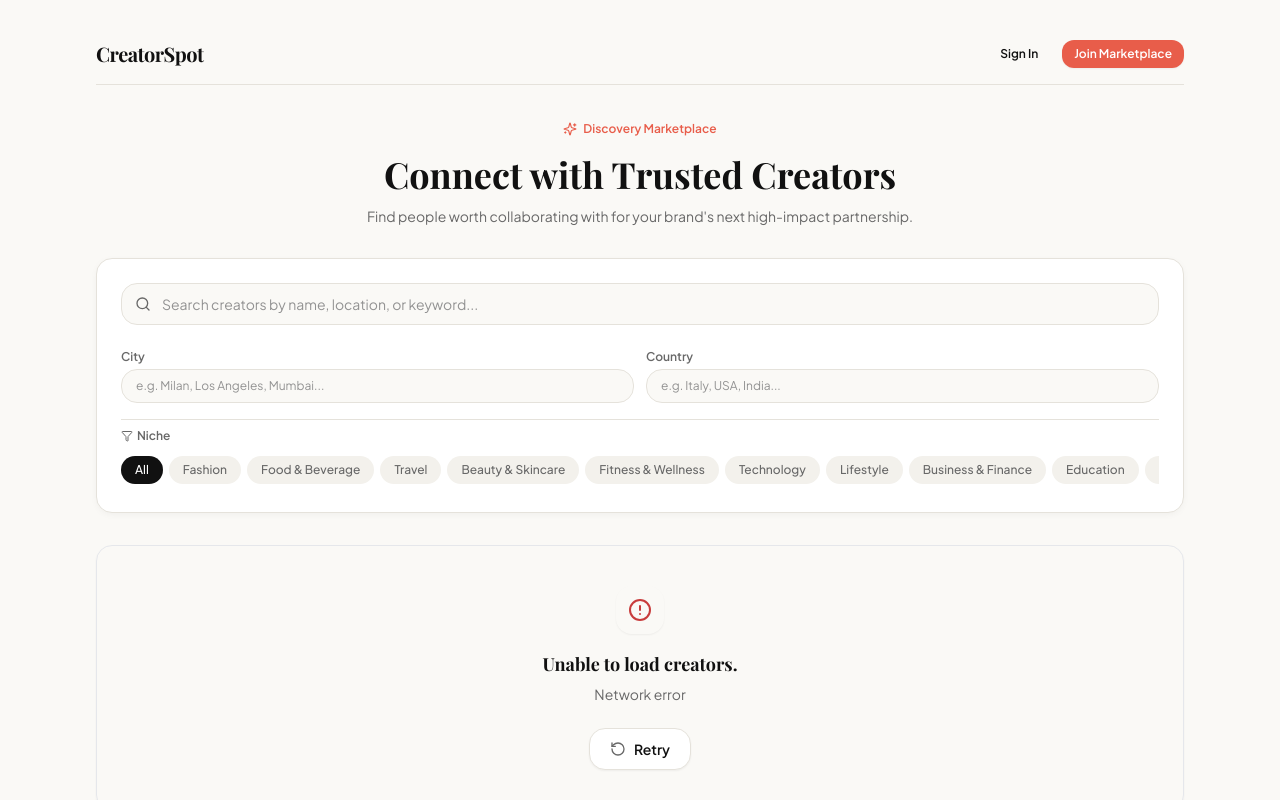
Test: Phase 6B Frontend Creator Discovery Page › renders error state and retries on Retry click
Expected: the text "Network error" is shown, [594,684,686,704]
Click the button "Retry" at (640, 749), box [589,728,691,770]
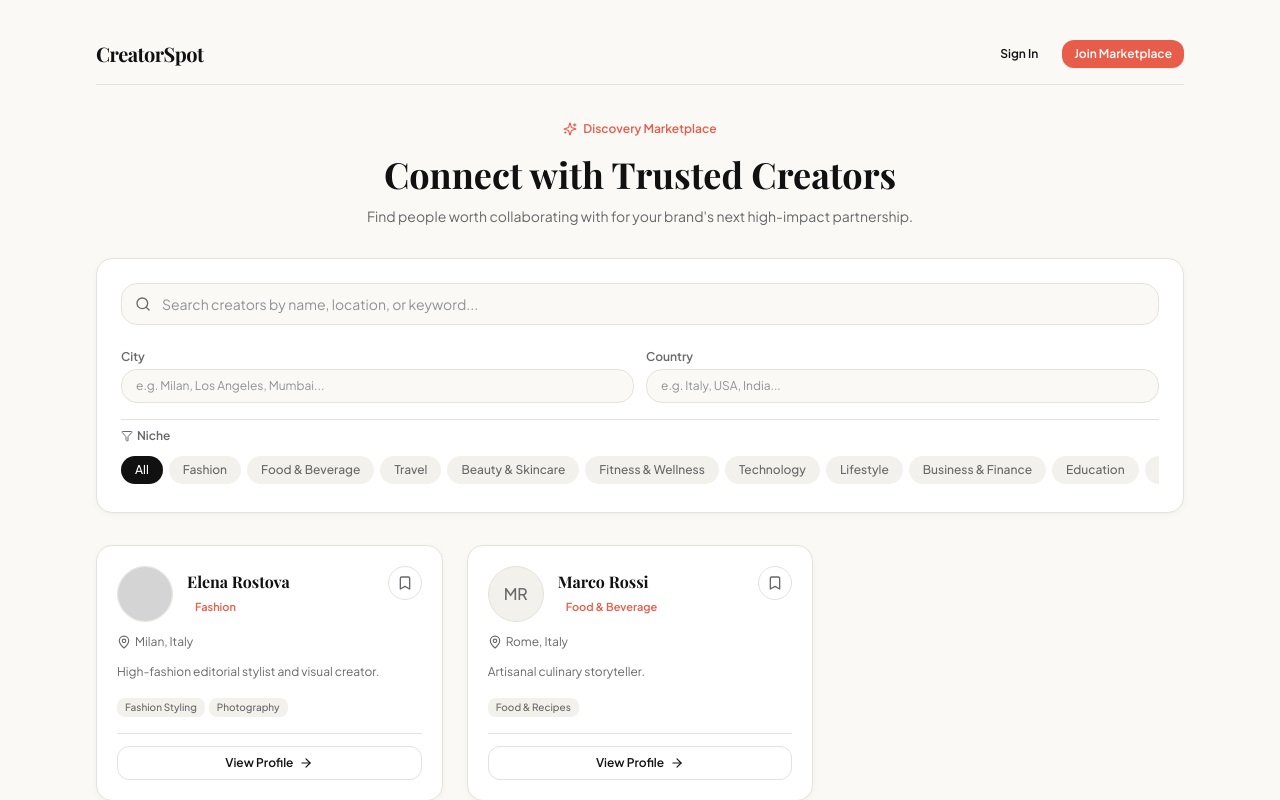
Result: the heading "Elena Rostova" is shown at [187,571,290,593]
